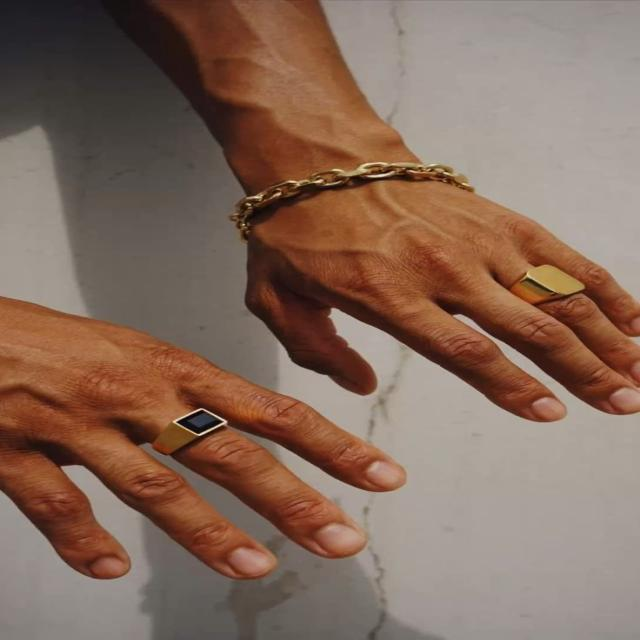Fingernail: (313, 523, 363, 554), (228, 547, 273, 575), (367, 461, 403, 488), (532, 396, 566, 422), (91, 556, 126, 579)
